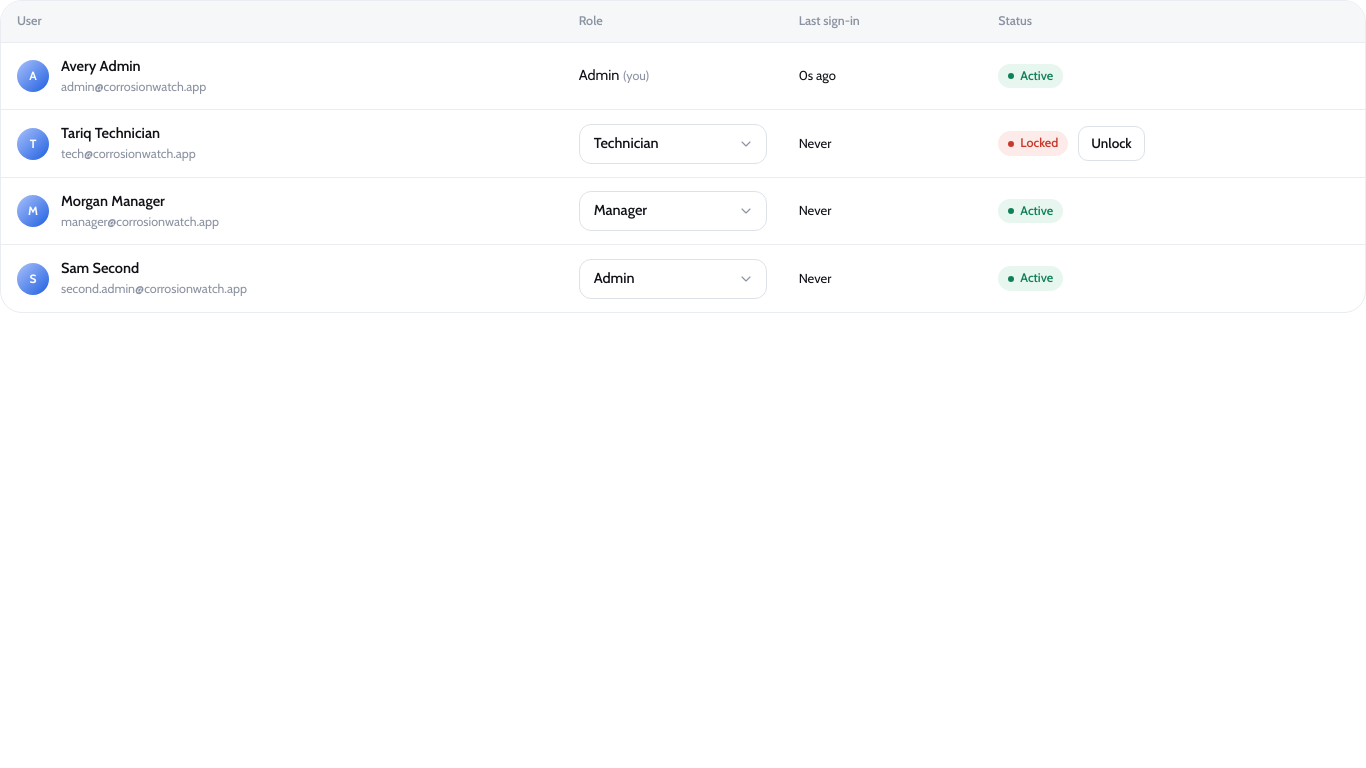
Test: Admin > Users › shows the backend's 409 message when a change is refused
Expected: the text "Sam Second" is shown, [61,259,139,277]
Click the button with aria-label "Role for Sam Second" at (673, 278), box [579,258,767,298]
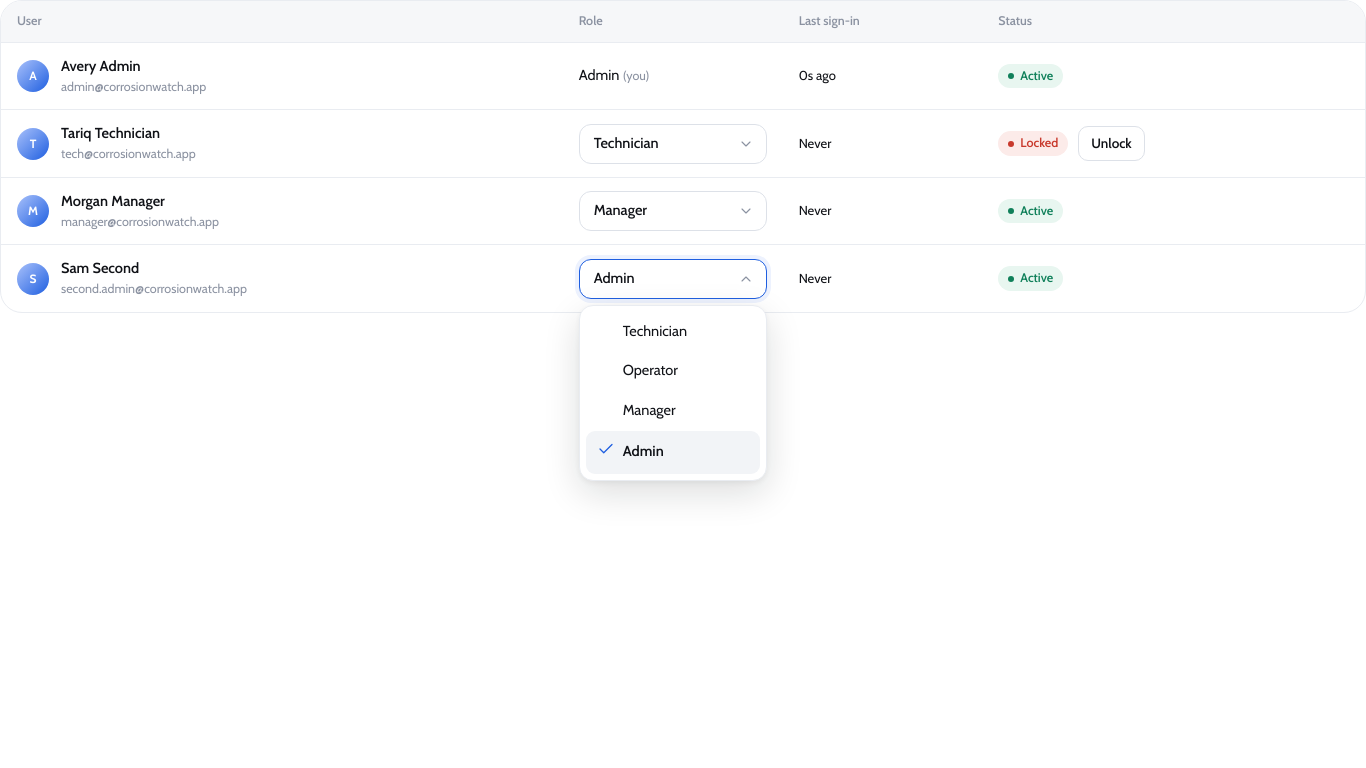
Click the option "Manager" at (673, 411), box [586,391,760,431]
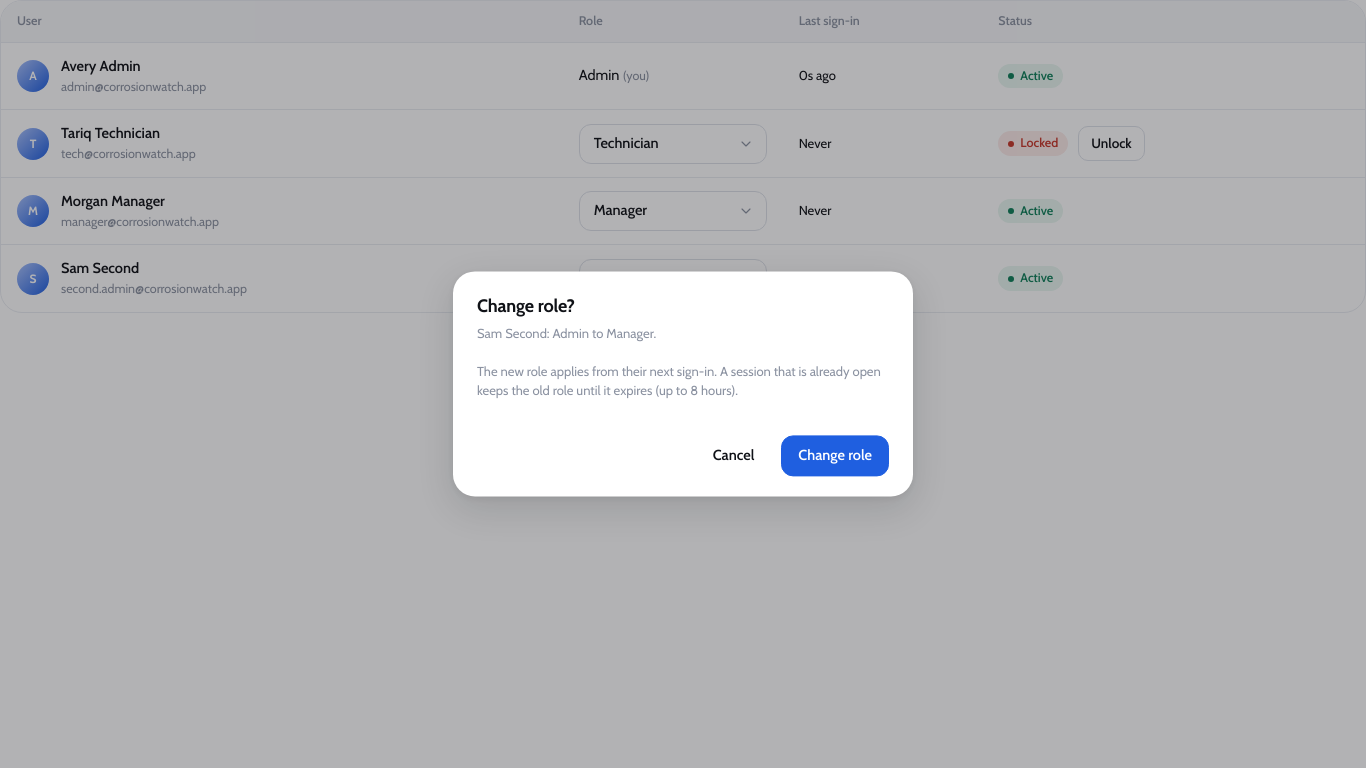
Click the button "Change role" at (835, 456), box [781,435,889,477]
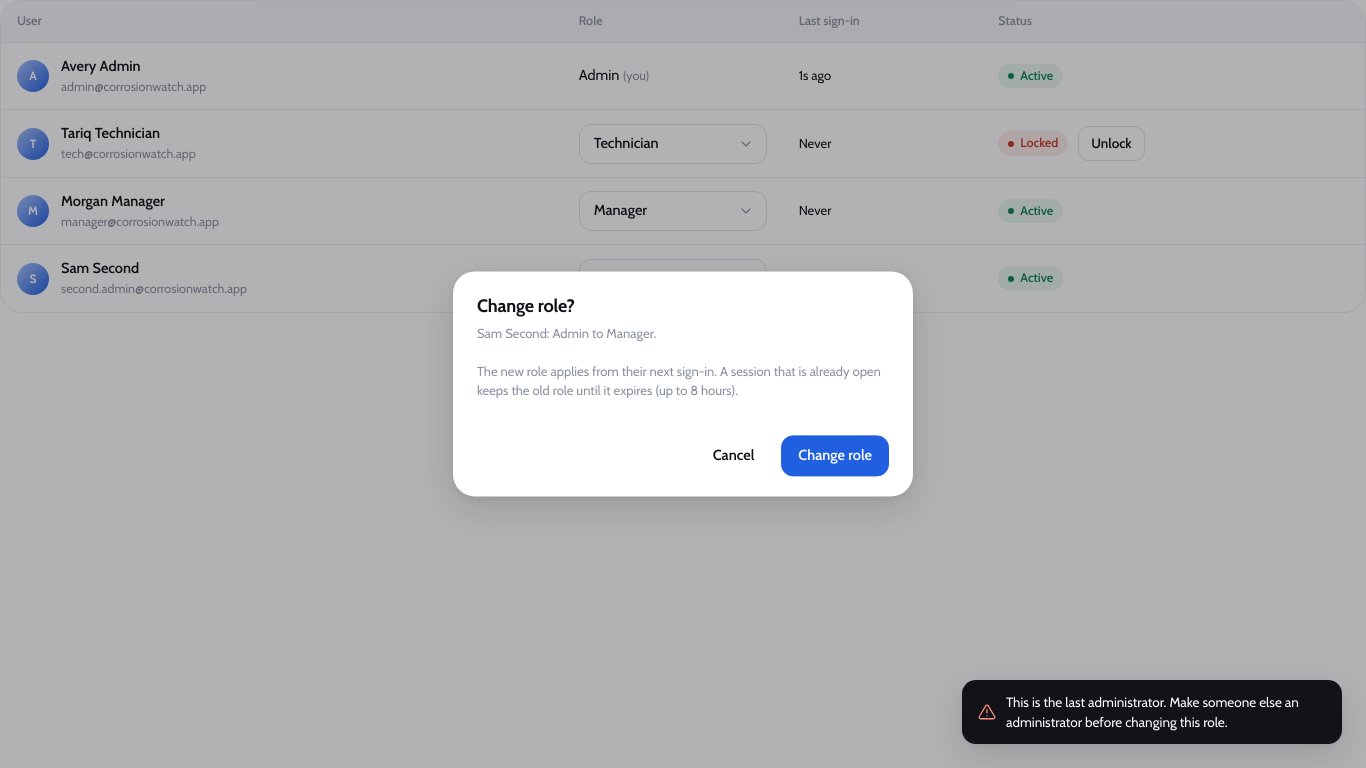
Result: the dialog is shown at [453,271,913,497]
Result: the text "This is the last administrator" is shown at [1006,694,1299,730]
